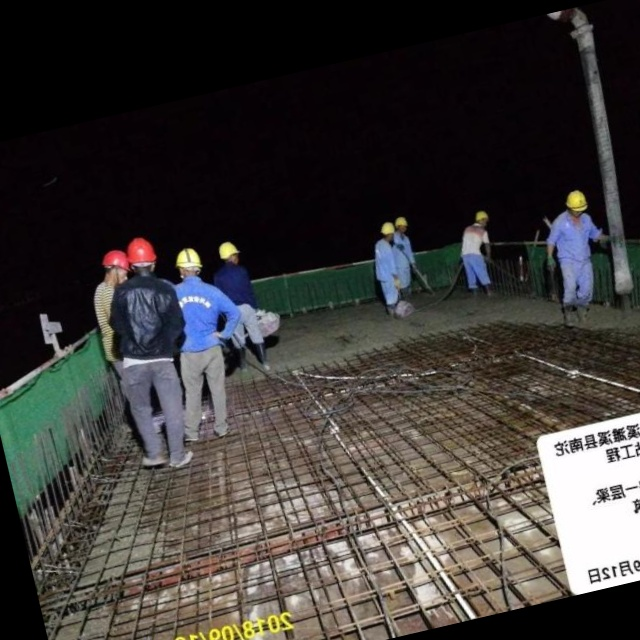Con_Casco: (127, 235, 161, 274), (174, 246, 204, 279)
Sin_Chaleco: (102, 270, 186, 369), (167, 276, 229, 354)
